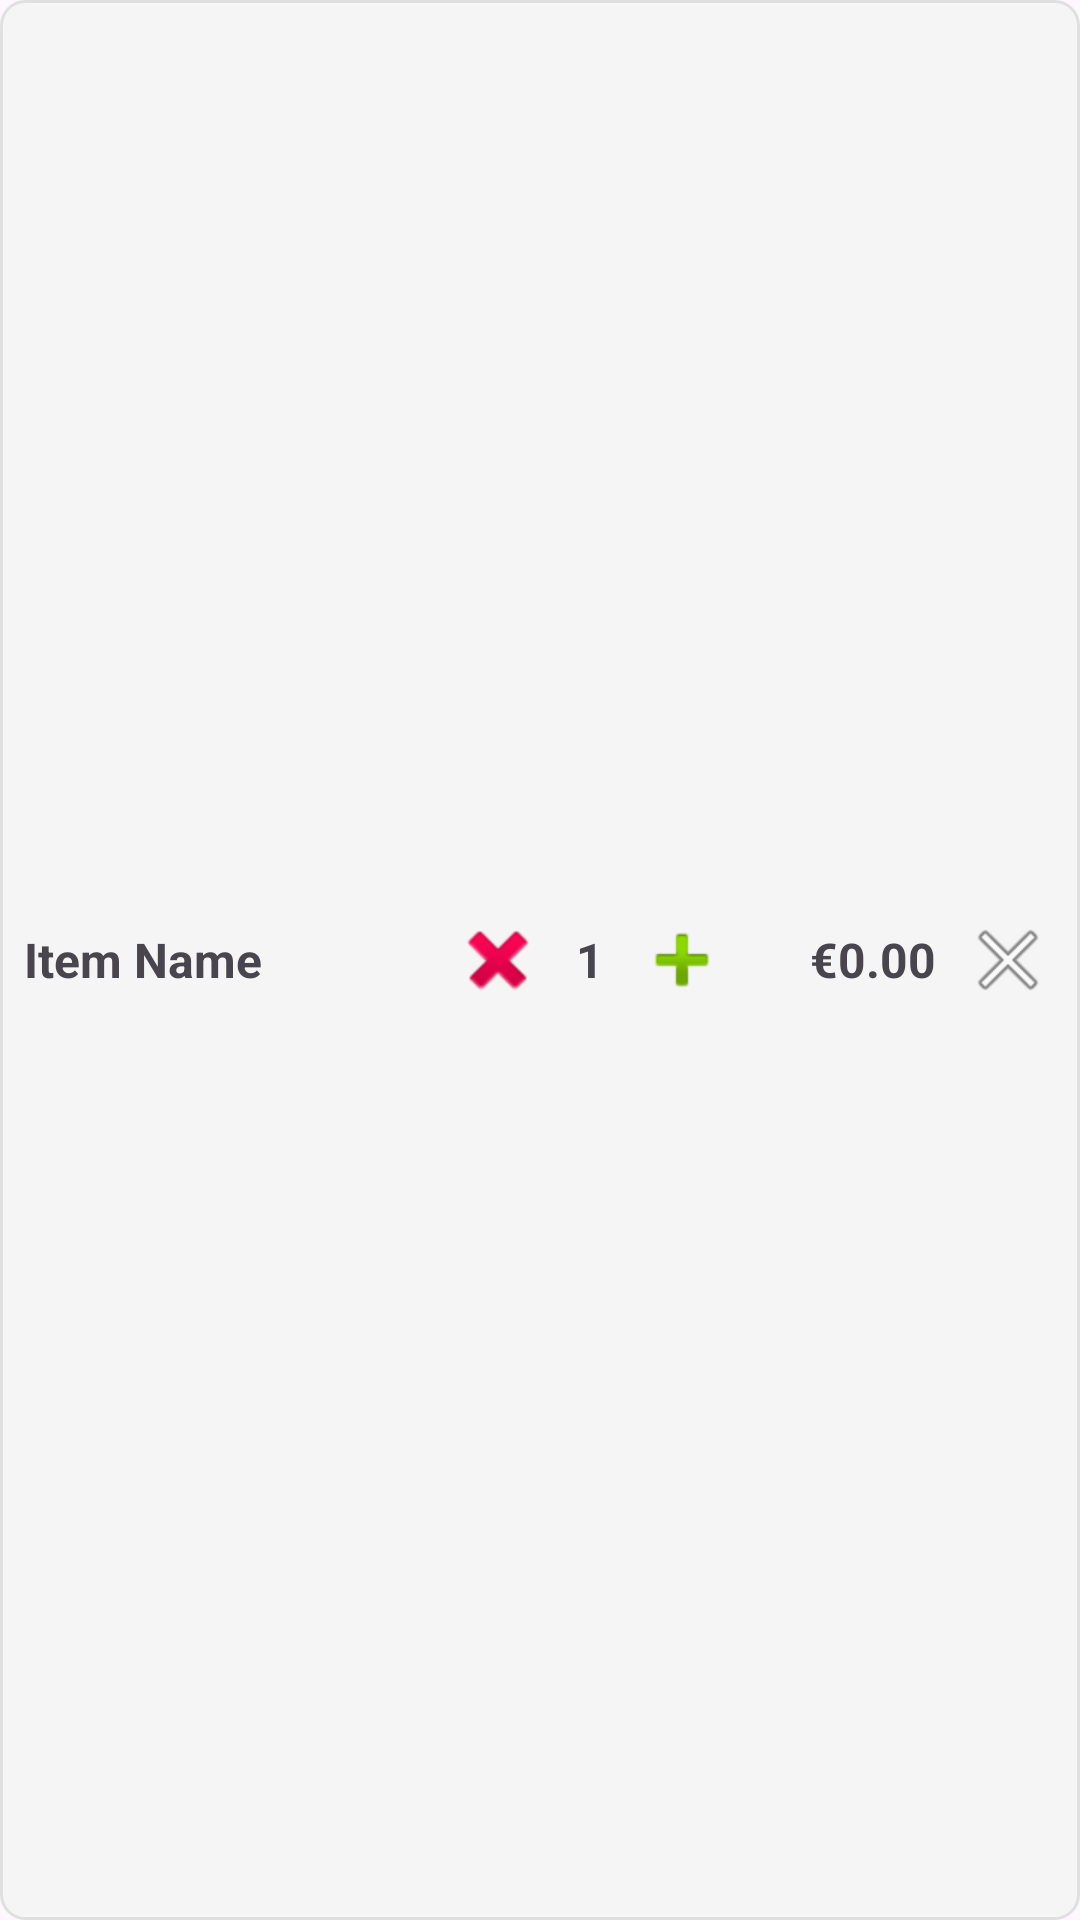

Icon bounding boxes for this 1080 × 1920 phone screenshot, format (x1, y1, x2, y2):
Remove Item: (978, 930, 1038, 990)
